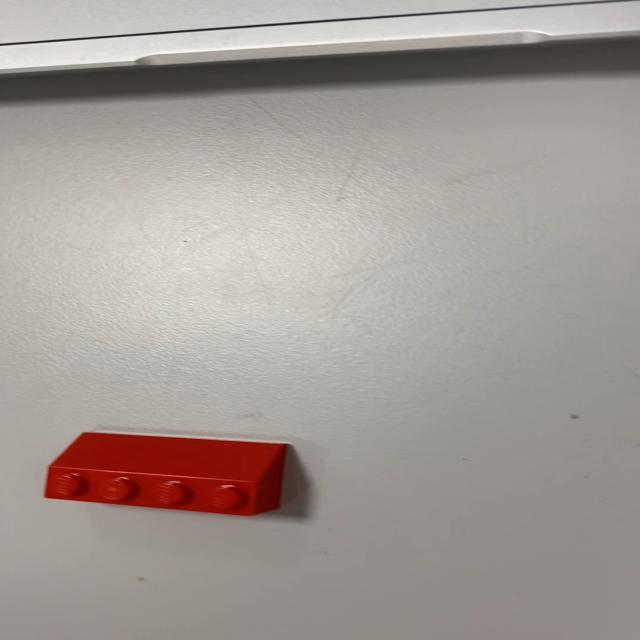P4x2x1: (42, 430, 289, 517)
